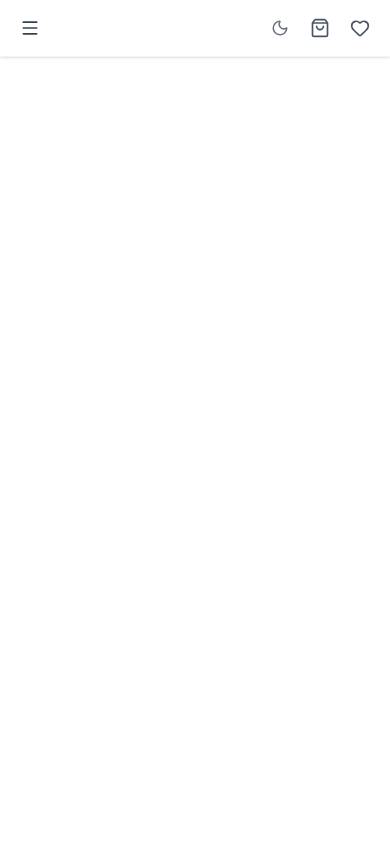
Header › Menu hamburguesa movil › cierra el menu movil al hacer clic en el boton de cerrar
// Abrir men\u00fa
Click the button named "Abrir menú": [30, 28] box [12,10,48,46]
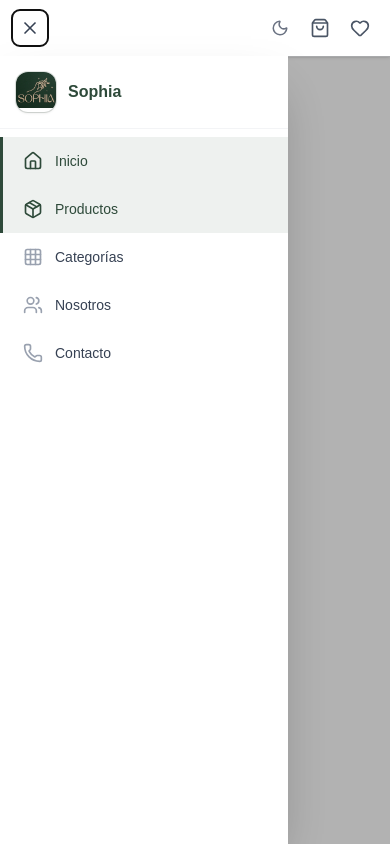
Expected: the button named "Cerrar menú" is shown
// Cerrar men\u00fa
Click the button named "Cerrar menú": [30, 28] box [12,10,48,46]
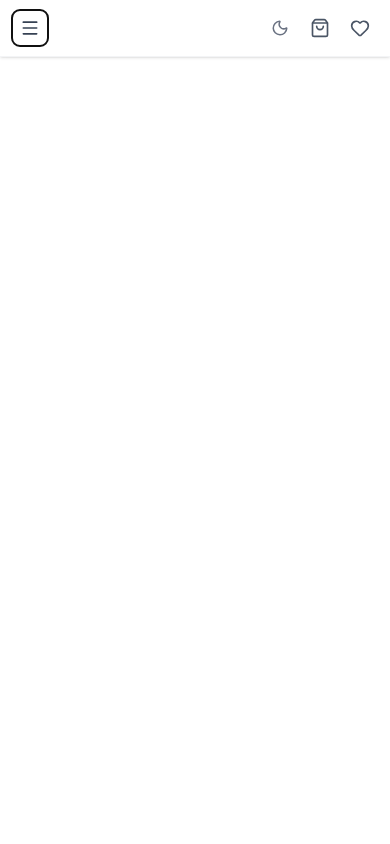
Expected: the button named "Abrir menú" is shown, [12,10,48,46]
